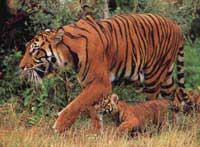Tigre: (19, 14, 188, 120), (91, 92, 180, 140)
